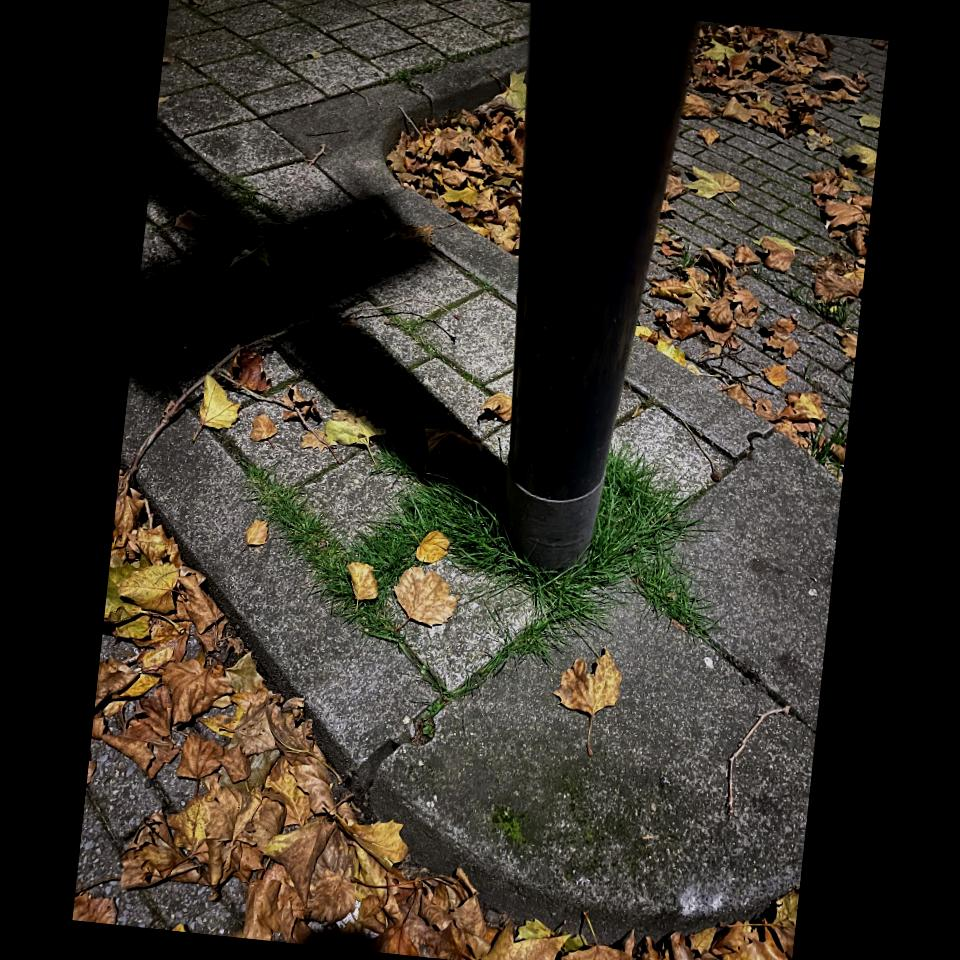weed: (244, 435, 697, 705), (217, 175, 284, 223), (806, 422, 837, 467)
